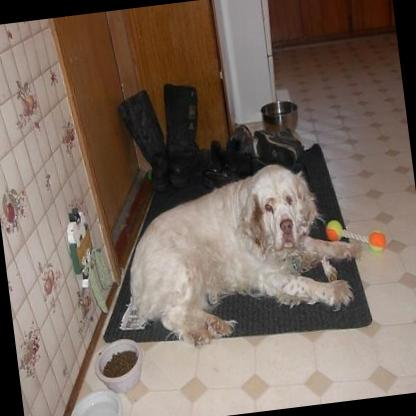clumber: (114, 152, 371, 352)
